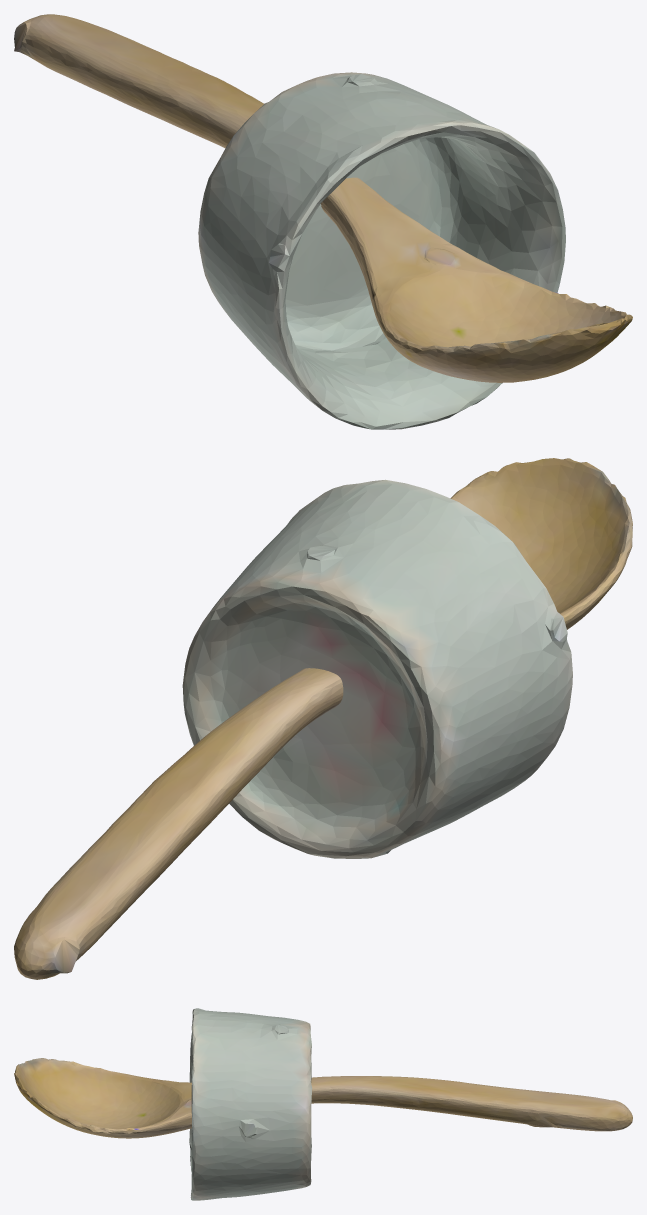
The picture shows the model from 3 angles, top to bottom: view 1: azimuth 30°, elevation 25°; view 2: azimuth 150°, elevation 25°; view 3: azimuth 270°, elevation 25°; orthographic projection. The views are drawn at different scales.
Visible parts, largest first — view 1: world; view 2: world; view 3: world.
Boxes of the visible parts, x1,y1,x2,y2 form: world: (14,14,632,429); world: (14,458,632,979); world: (14,1008,632,1200).
Bounding box in the file's own units: 0.0608 × 0.0596 × 0.1935.
